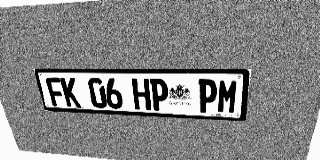0: (87, 78, 107, 108)
6: (103, 78, 123, 109)
F: (45, 77, 66, 107)
H: (131, 78, 151, 110)
K: (60, 77, 81, 107)
M: (217, 79, 239, 114)
P: (198, 79, 218, 113), (149, 78, 168, 111)
